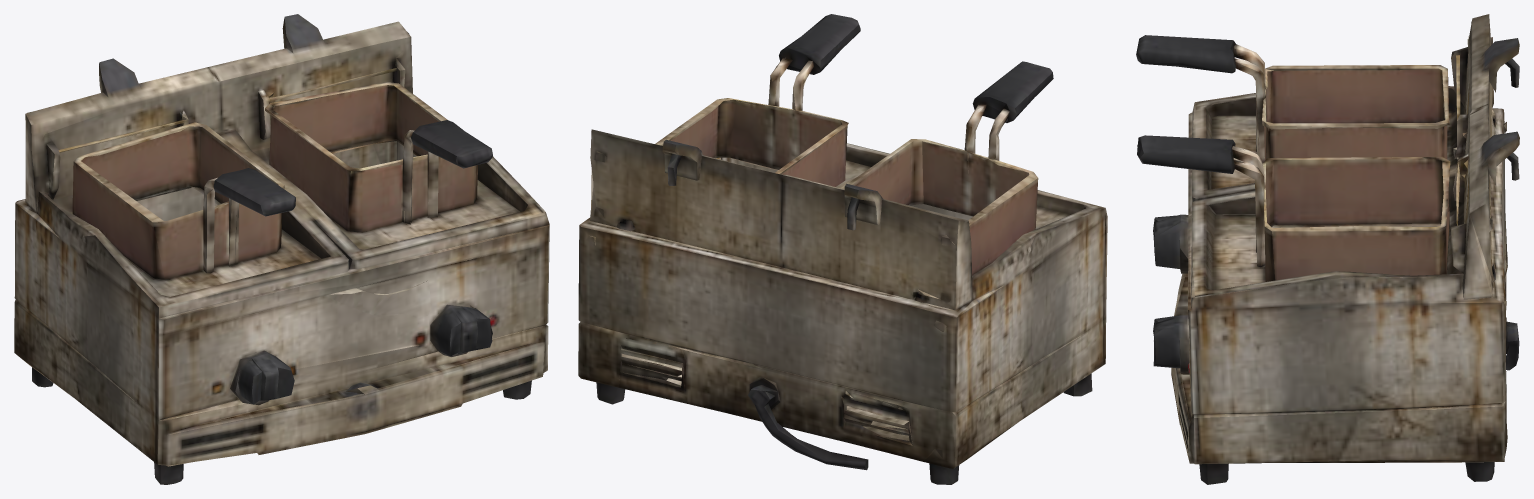
File: p7-deep-fryer.glb
3 views of the same model, side by side, from view 1: azimuth 30°, elevation 25°; view 2: azimuth 150°, elevation 25°; view 3: azimuth 270°, elevation 25° (orthographic). The views are drawn at different scales.
Parts seen in each view (by area): view 1: p7-deep-fryer; view 2: p7-deep-fryer; view 3: p7-deep-fryer.
Boxes of the visible parts, left/top/right/bottom form: p7-deep-fryer: left=14, top=14, right=549, bottom=484; p7-deep-fryer: left=578, top=14, right=1107, bottom=484; p7-deep-fryer: left=1136, top=14, right=1519, bottom=484.
Size of the model in its own units: 0.55 by 0.4 by 0.45.
1 material, 1 textured.
